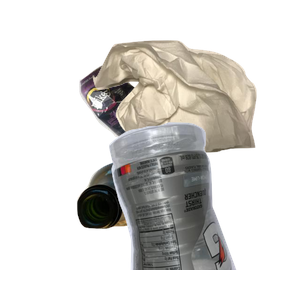glass: (74, 158, 223, 300)
metal: (77, 61, 222, 191)
plastic: (106, 120, 300, 300)
trash: (90, 38, 300, 183)
